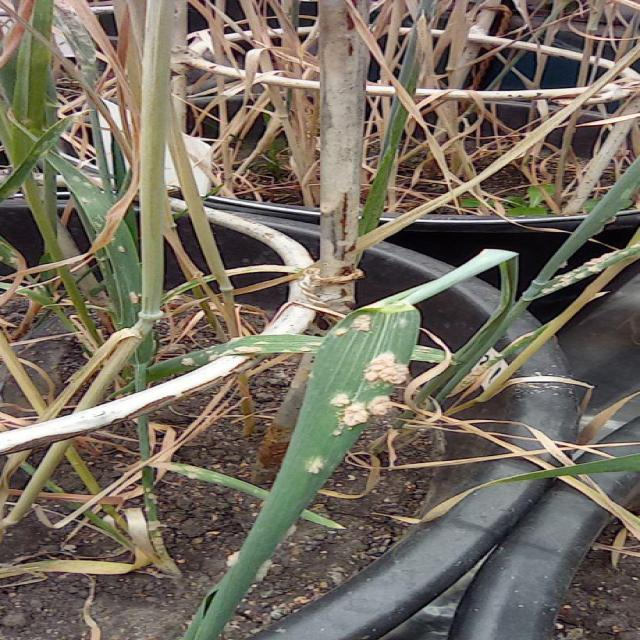wheat-powdery-mildew: (543, 251, 618, 294), (361, 351, 412, 386), (332, 403, 373, 436), (209, 346, 262, 362), (366, 395, 395, 416), (304, 455, 329, 475), (349, 314, 372, 331), (328, 394, 352, 406), (152, 462, 180, 470), (153, 537, 166, 553), (181, 358, 203, 367), (335, 328, 351, 337), (148, 521, 161, 530), (184, 466, 205, 471), (129, 292, 138, 303), (79, 197, 91, 205), (70, 175, 82, 181), (83, 182, 93, 189), (304, 342, 319, 346), (187, 473, 199, 478), (117, 246, 125, 253), (299, 347, 312, 351), (251, 342, 267, 345), (148, 494, 156, 500), (144, 507, 152, 511)
